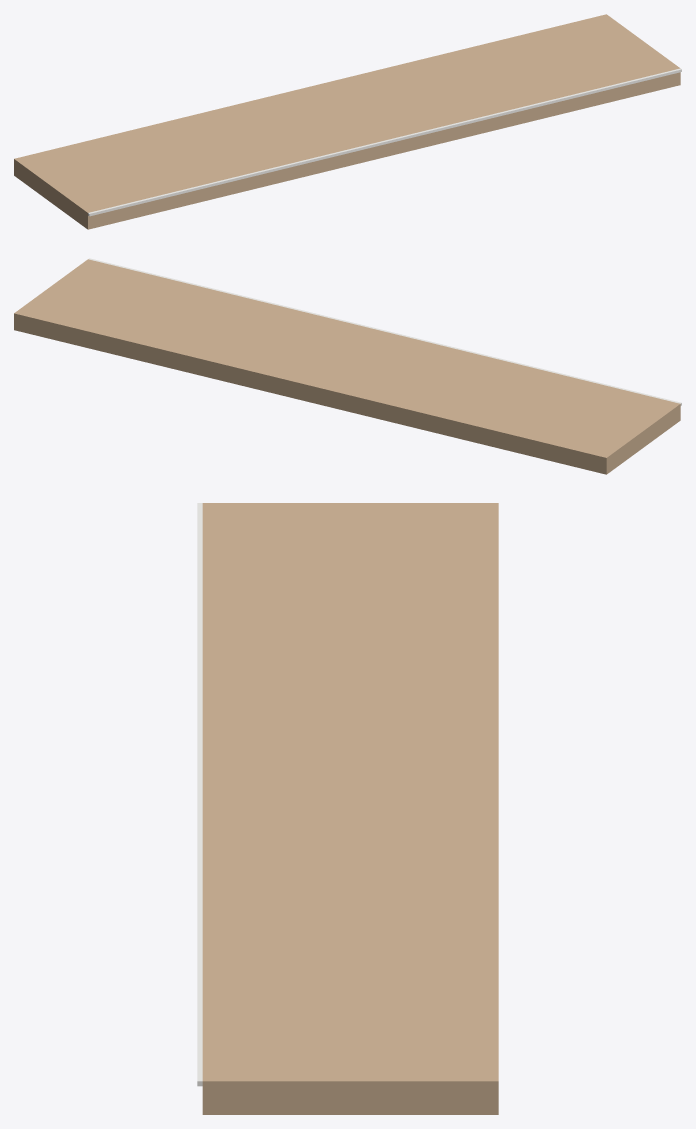
File: teacher_platform.glb
3 views of the same model, one above another, from view 1: azimuth 30°, elevation 25°; view 2: azimuth 150°, elevation 25°; view 3: azimuth 270°, elevation 25° (orthographic). The views are drawn at different scales.
Parts seen in each view (by area): view 1: teacher_platform_wood, teacher_platform_trim; view 2: teacher_platform_wood, teacher_platform_trim; view 3: teacher_platform_wood, teacher_platform_trim.
Boxes of the visible parts, bbox=[...] form: teacher_platform_wood: bbox=[14, 14, 680, 229]; teacher_platform_trim: bbox=[88, 68, 681, 216]; teacher_platform_wood: bbox=[14, 259, 680, 474]; teacher_platform_trim: bbox=[88, 258, 681, 405]; teacher_platform_wood: bbox=[202, 503, 498, 1114]; teacher_platform_trim: bbox=[197, 503, 202, 1086].
Bounding box in the file's own units: 7.4 × 0.2 × 1.63.
